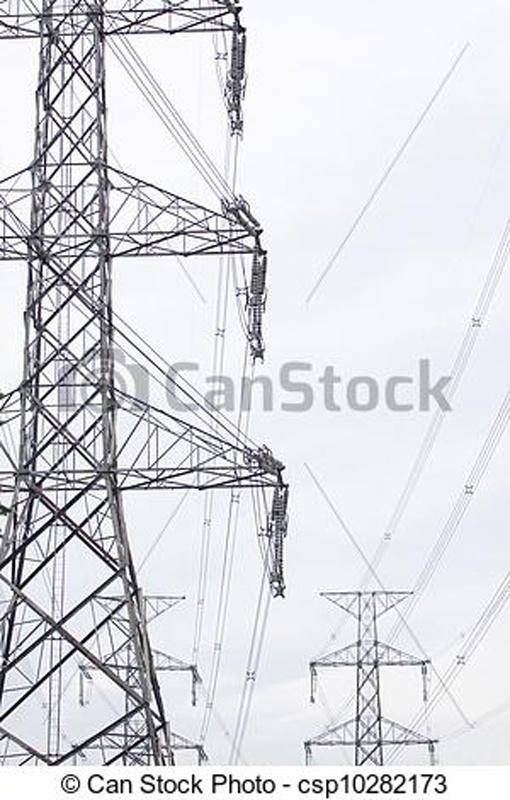power_tower: (14, 7, 231, 735), (317, 572, 434, 735)
